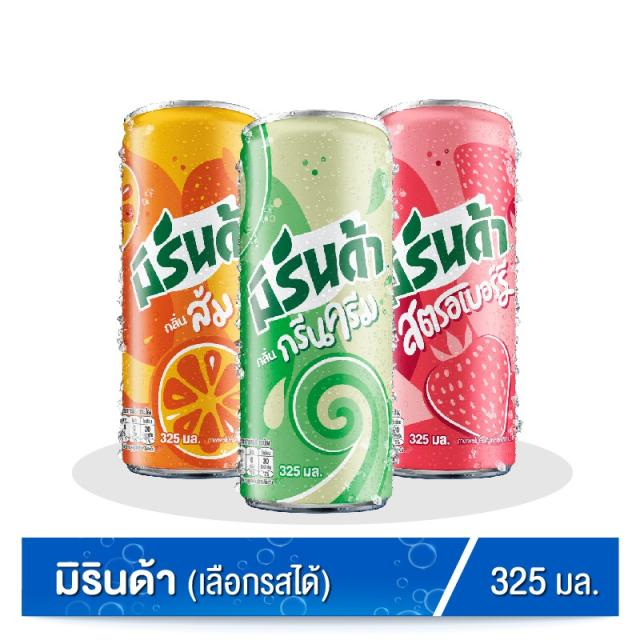can: (239, 105, 397, 516), (375, 97, 521, 480), (120, 99, 264, 481)
